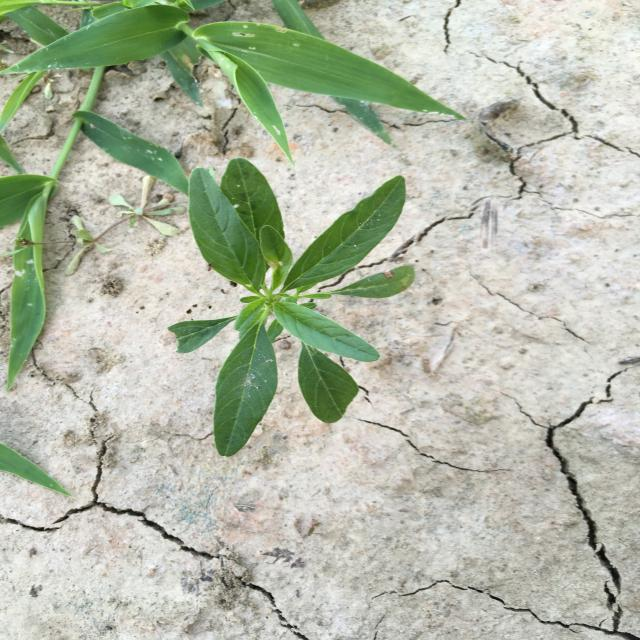Carpetweed: (2, 175, 190, 278)
Waterhemp: (164, 156, 418, 458)
